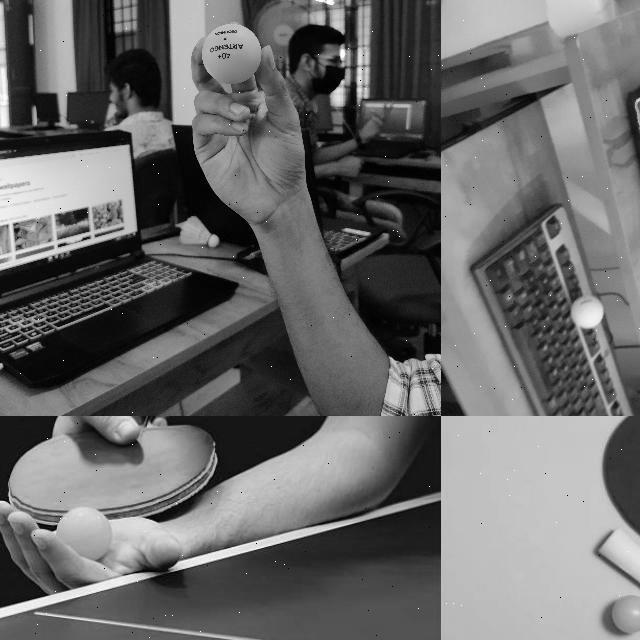ping-pong-ball: (202, 24, 262, 82), (56, 508, 112, 564), (610, 596, 639, 634), (574, 296, 604, 328)
